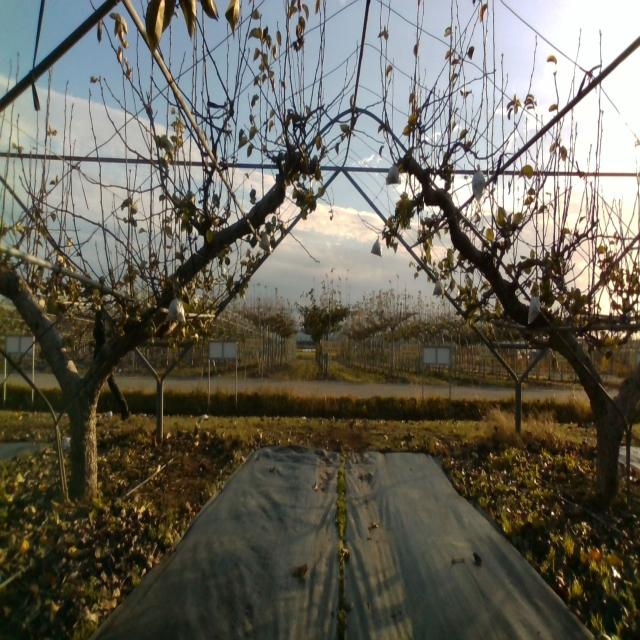pearbags: (164, 294, 186, 324), (471, 163, 486, 200), (528, 289, 542, 323), (386, 163, 401, 186), (258, 234, 272, 256), (432, 276, 445, 297), (371, 236, 382, 256)
